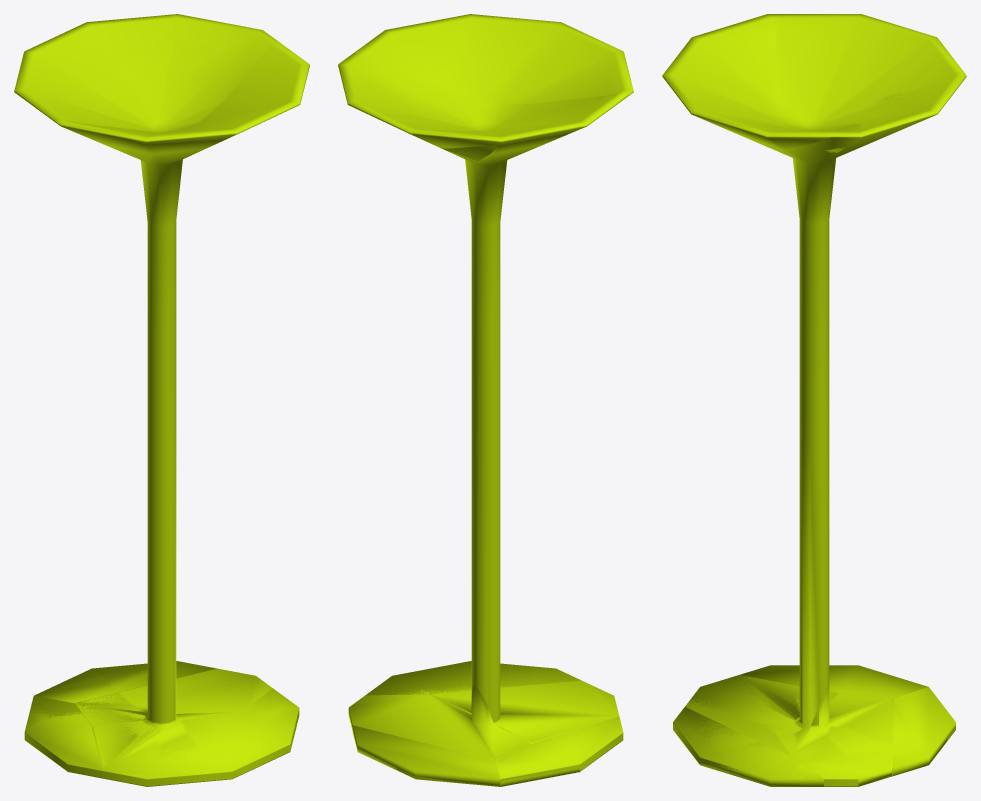
The model's file is Lamp - Proxy.fbx.
3 renders of one model, left to right at view 1: azimuth 30°, elevation 25°; view 2: azimuth 150°, elevation 25°; view 3: azimuth 270°, elevation 25°, orthographic.
Visible parts, largest first — view 1: Lamp, Lamp_cell.003, Lamp_cell.007, Lamp_cell.001, Lamp_cell, Lamp_cell.004, Lamp_cell.005, Lamp_cell.006; view 2: Lamp, Lamp_cell.007, Lamp_cell, Lamp_cell.003, Lamp_cell.001, Lamp_cell.005, Lamp_cell.004; view 3: Lamp_cell.003, Lamp, Lamp_cell, Lamp_cell.007, Lamp_cell.001, Lamp_cell.005, Lamp_cell.004, Lamp_cell.006.
Part boxes in pixels (x1,y1,x2,y2): Lamp: (14,18,309,786); Lamp_cell.003: (14,14,277,442); Lamp_cell.007: (57,41,309,140); Lamp_cell.001: (75,668,271,725); Lamp_cell: (93,438,215,778); Lamp_cell.004: (24,704,102,770); Lamp_cell.005: (34,661,216,703); Lamp_cell.006: (210,689,299,756); Lamp: (347,51,633,786); Lamp_cell.007: (354,14,633,103); Lamp_cell: (430,438,619,742); Lamp_cell.003: (338,53,628,442); Lamp_cell.001: (348,687,530,759); Lamp_cell.005: (353,725,500,786); Lamp_cell.004: (496,716,623,782); Lamp_cell.003: (770,14,966,443); Lamp: (662,14,955,786); Lamp_cell: (685,438,836,755); Lamp_cell.007: (663,17,829,137); Lamp_cell.001: (793,687,892,786); Lamp_cell.005: (893,687,955,775); Lamp_cell.004: (740,665,928,697); Lamp_cell.006: (673,707,823,786).
Bounding box in the file's own units: 99.31 × 248 × 104.
